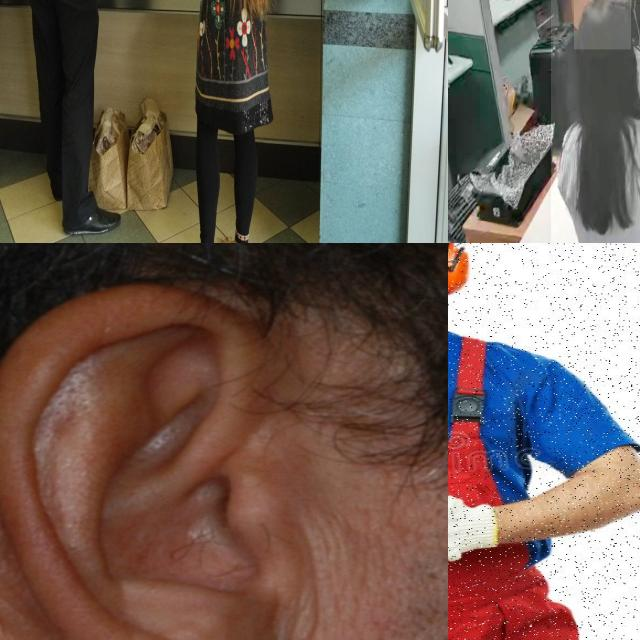Ear-protection: (448, 243, 516, 301)
No_Ear-Protection: (0, 277, 317, 640)
head_nohelmet: (574, 0, 631, 50)
person: (448, 243, 640, 640), (550, 0, 640, 243)
